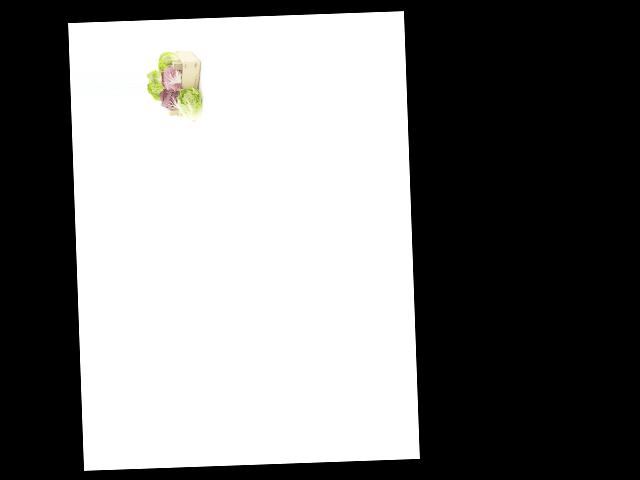lettuce: (146, 69, 168, 101)
